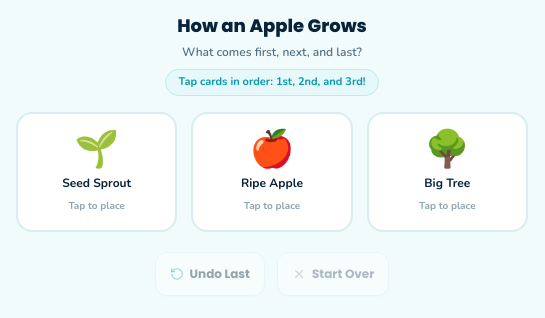
Story Puzzle Step 3: Gameplay & Interaction › StoryPuzzleRound — Card Selection › 35. selecting a second card shows Step 2 badge on that card
Click the button with test id "story-card-sp-1-tree" at [447, 172], box x1=367 y1=112 x2=528 y2=232
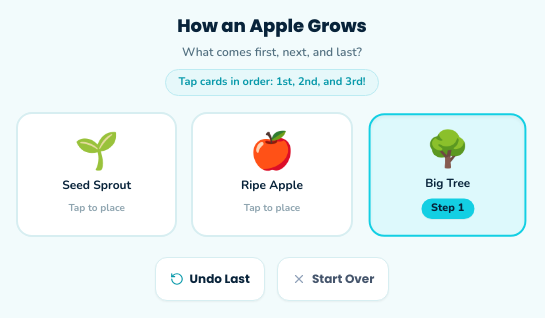
Click the button with test id "story-card-sp-1-seed" at [97, 174], box x1=16 y1=112 x2=177 y2=237
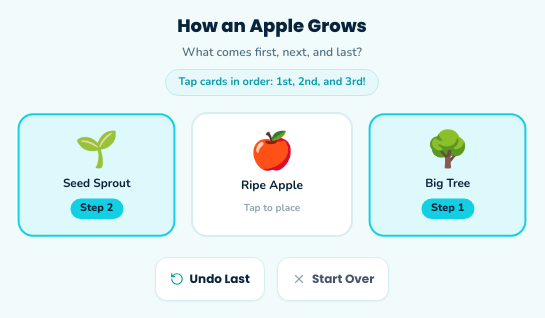
Result: the text with test id "step-badge-sp-1-tree" reads "Step 1" at x1=421 y1=198 x2=474 y2=218
Result: the text with test id "step-badge-sp-1-seed" reads "Step 2" at x1=70 y1=198 x2=123 y2=218
